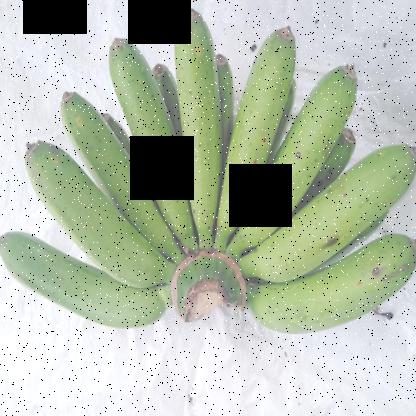unripe: (212, 62, 371, 236), (16, 127, 150, 291), (218, 1, 304, 239), (1, 223, 166, 338), (246, 234, 415, 345), (163, 4, 234, 266)
